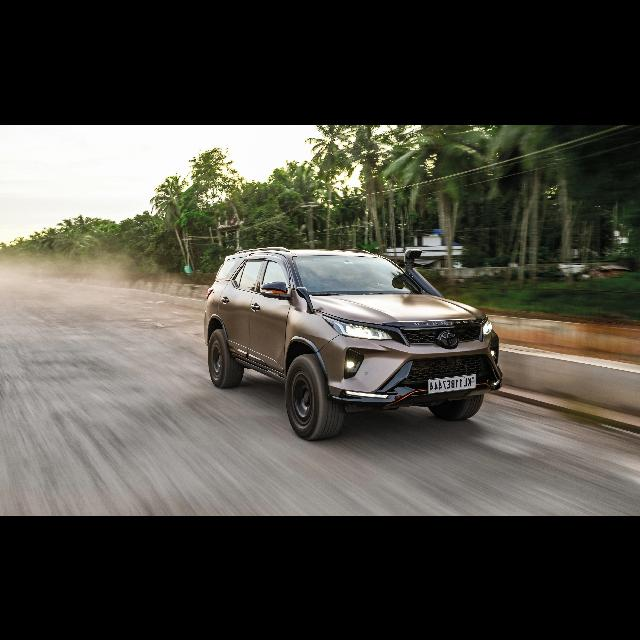vehicles: (195, 243, 507, 439)
